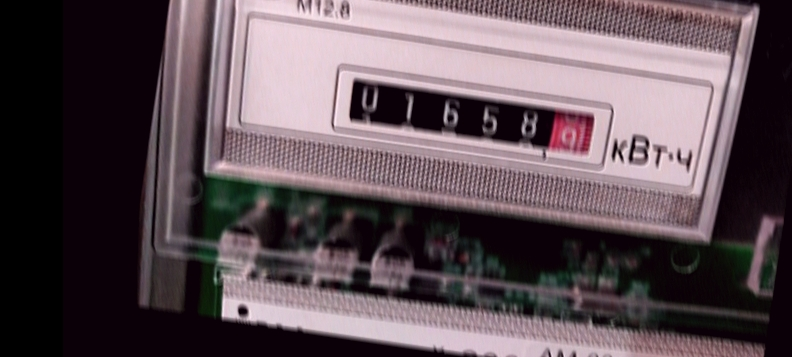0: (360, 80, 386, 114)
1: (403, 90, 421, 122)
5: (482, 103, 506, 137)
6: (443, 96, 467, 129)
8: (521, 106, 545, 141)
9: (560, 124, 581, 152)
screen: (324, 55, 623, 176)
